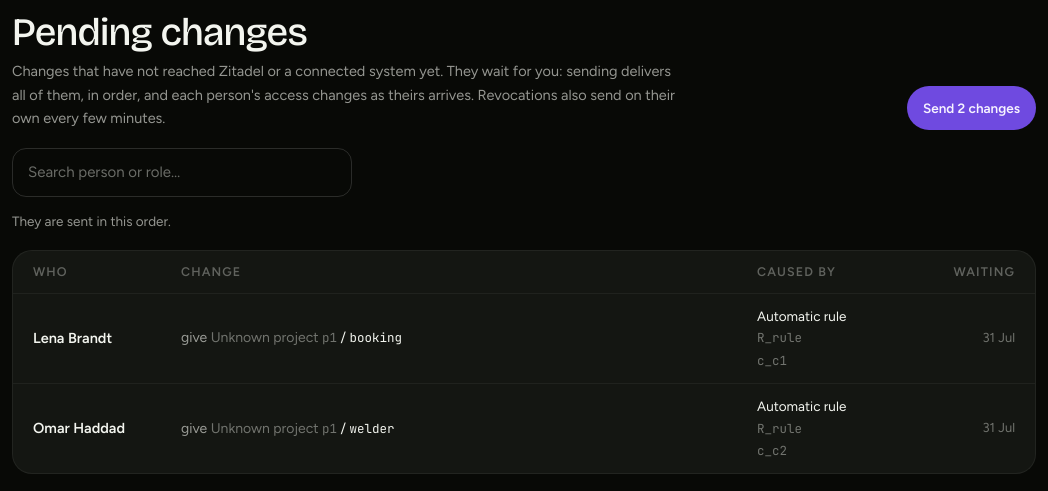
Test case: Pending changes · board layout › search › narrows by role
The image size is (1048, 491).
Step 1. Type "booking" into the field named "Search pending changes" → (182, 173), box top-left (12, 148), bottom-right (352, 197)
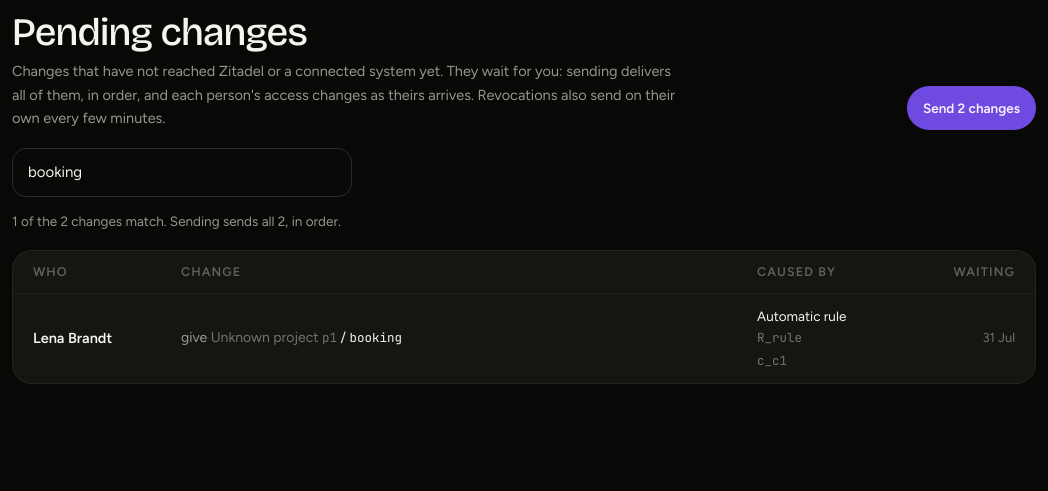
Check: the text "Lena Brandt" is shown, box top-left (33, 329), bottom-right (112, 347)
Check: the text "Omar Haddad" is gone
